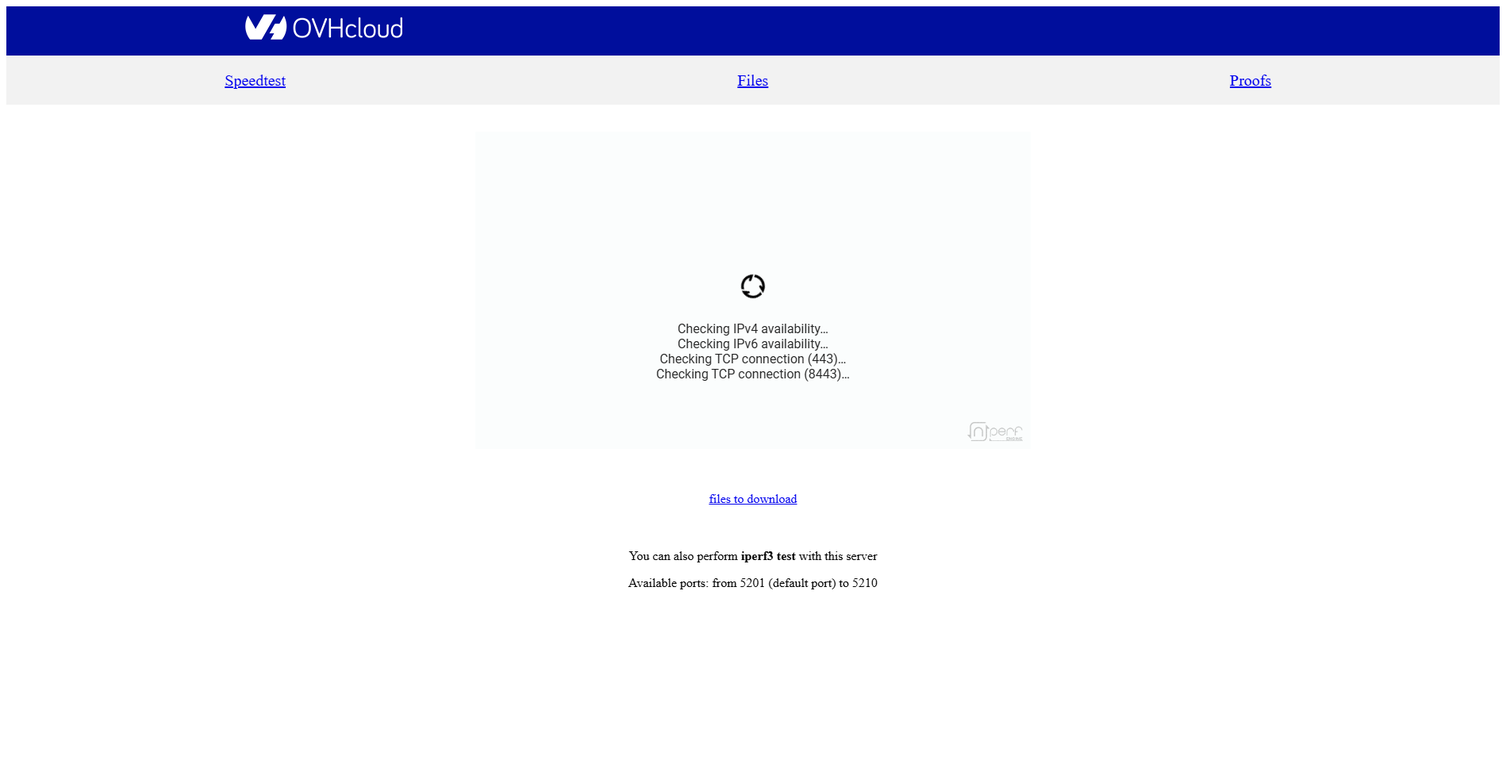general_image: (245, 6, 402, 47)
general_link: (6, 33, 402, 50), (709, 492, 797, 505), (225, 71, 286, 89), (1230, 71, 1271, 89), (737, 71, 768, 89)
